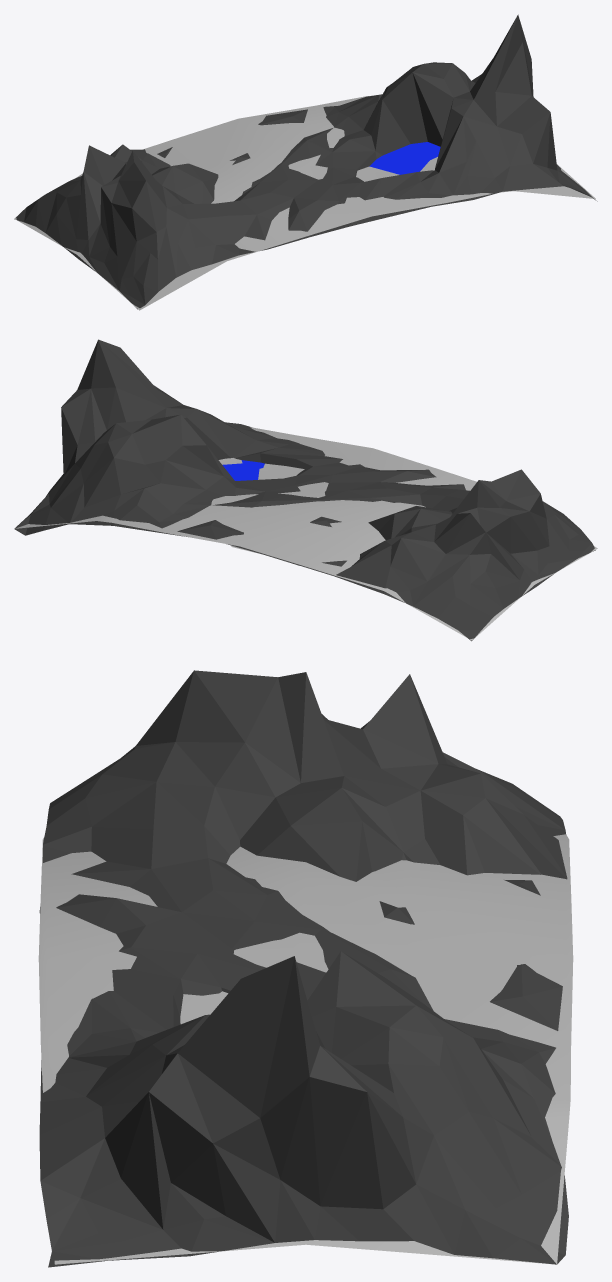
Rendered from Berg_02.FBX.
3 views of the same model, one above another, from view 1: azimuth 30°, elevation 25°; view 2: azimuth 150°, elevation 25°; view 3: azimuth 270°, elevation 25° (orthographic). The views are drawn at different scales.
Visible parts, largest first — view 1: Sphere097; view 2: Sphere097; view 3: Sphere097.
Boxes of the visible parts, x1,y1,x2,y2 form: Sphere097: (14, 14, 597, 310); Sphere097: (14, 339, 597, 641); Sphere097: (38, 670, 573, 1267).
Size of the model in its own units: 45.36 by 14.63 by 22.95.
